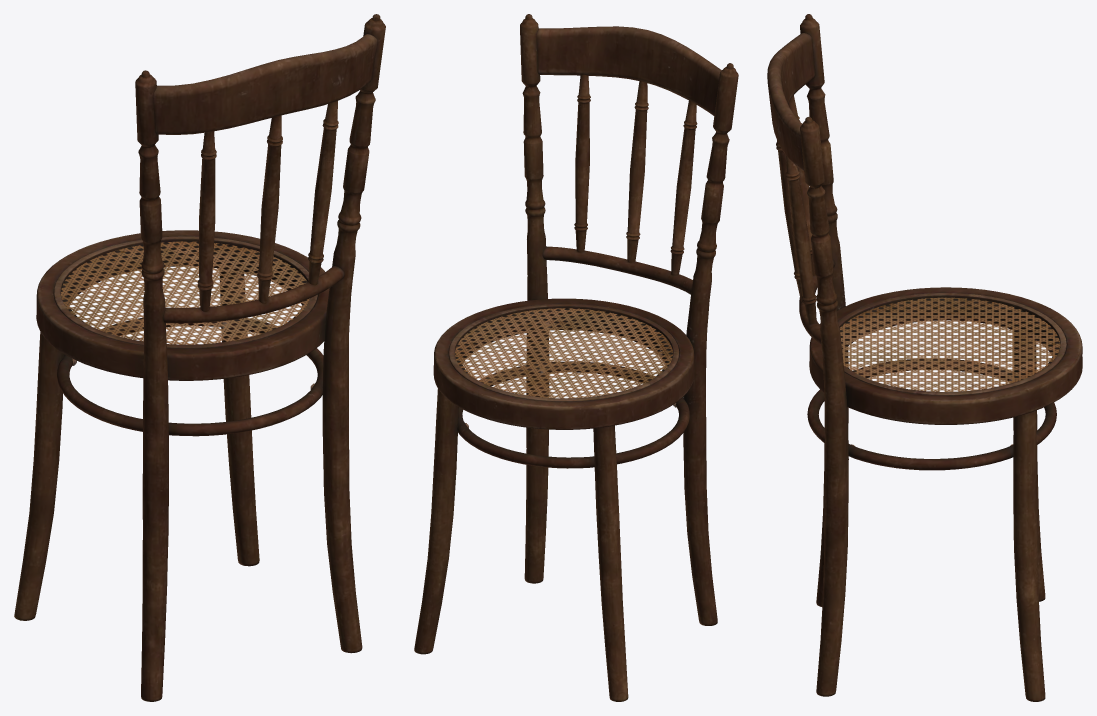
Rendered from chair-transformed.glb.
3 renders of one model, left to right at view 1: azimuth 30°, elevation 25°; view 2: azimuth 150°, elevation 25°; view 3: azimuth 270°, elevation 25°, orthographic. The views are drawn at different scales.
Parts seen in each view (by area): view 1: Nogi, Obod_sidenie, Setka, Spinka, Perekladini, Obruch, Fixator, Perekladina; view 2: Nogi, Obod_sidenie, Setka, Spinka, Perekladini, Obruch, Fixator, Perekladina; view 3: Nogi, Setka, Obod_sidenie, Obruch, Spinka, Perekladini, Fixator.
Part boxes in pixels (left/top/right/bottom): Nogi: left=14, top=14, right=385, bottom=701; Obod_sidenie: left=36, top=230, right=329, bottom=380; Setka: left=61, top=241, right=309, bottom=344; Spinka: left=153, top=34, right=377, bottom=134; Perekladini: left=197, top=101, right=338, bottom=311; Obruch: left=57, top=318, right=323, bottom=436; Fixator: left=54, top=236, right=317, bottom=348; Perekladina: left=163, top=266, right=344, bottom=323; Nogi: left=414, top=14, right=738, bottom=701; Obod_sidenie: left=433, top=298, right=694, bottom=429; Setka: left=455, top=308, right=673, bottom=398; Spinka: left=536, top=26, right=721, bottom=115; Perekladini: left=574, top=74, right=697, bottom=275; Obruch: left=457, top=361, right=689, bottom=468; Fixator: left=448, top=304, right=679, bottom=401; Perekladina: left=542, top=246, right=692, bottom=294; Nogi: left=800, top=14, right=1045, bottom=701; Setka: left=840, top=297, right=1060, bottom=391; Obod_sidenie: left=809, top=287, right=1082, bottom=424; Obruch: left=807, top=358, right=1056, bottom=470; Spinka: left=767, top=33, right=815, bottom=170; Perekladini: left=776, top=95, right=816, bottom=324; Fixator: left=838, top=293, right=1066, bottom=395.
Bounding box in the file's own units: 0.4236 × 0.996 × 0.489.
Materials: 1 (1 with a texture image).
